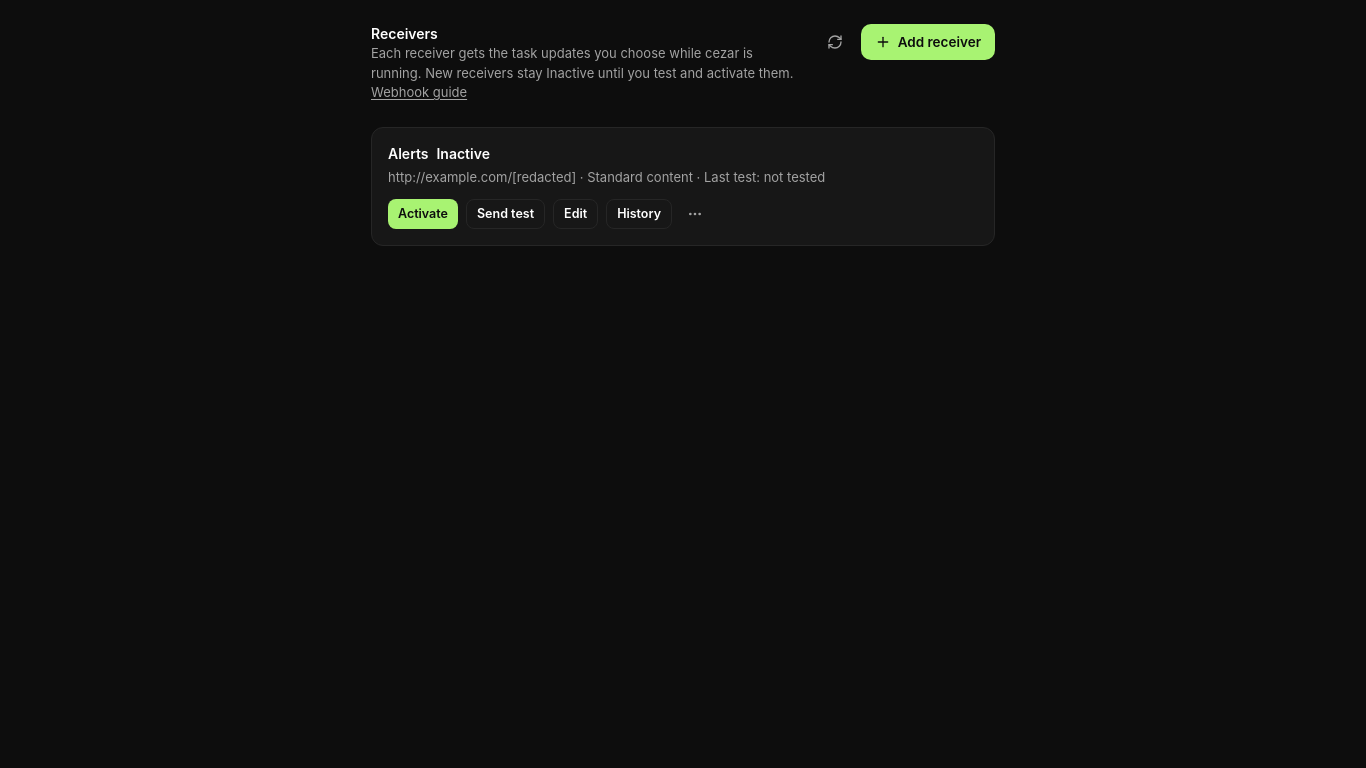
Test: project webhook settings › summarizes the exact receiver settings and HTTP risk before activation
What coordinates should you click on to do the following:
click the button "Activate"
I would click on:
 (423, 214)
Its box is [388,199,458,229].
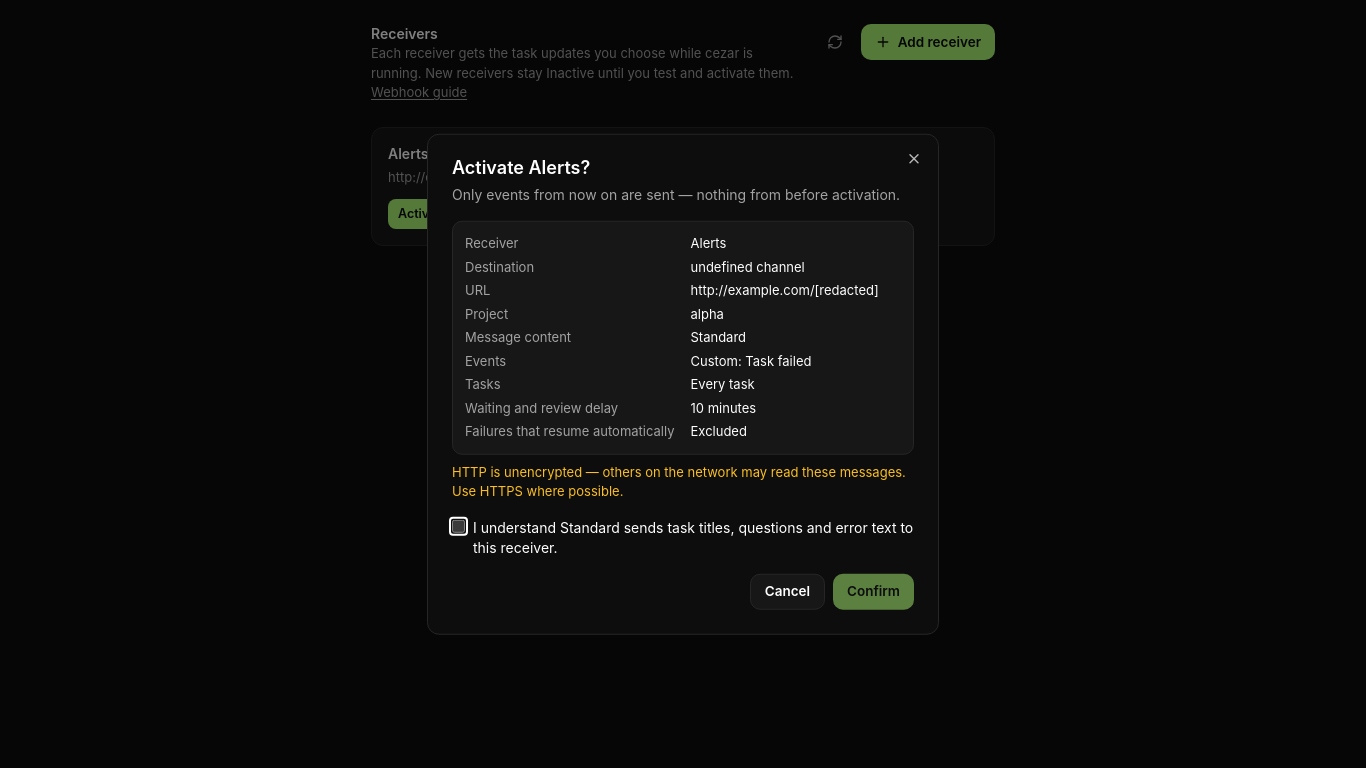
Check: the text "Alerts" is shown, box [690,235,726,251]
Check: the text "http://example.com/[redacted]" is shown, box [690,281,901,300]
Check: the text "alpha" is shown, box [690,305,724,321]
